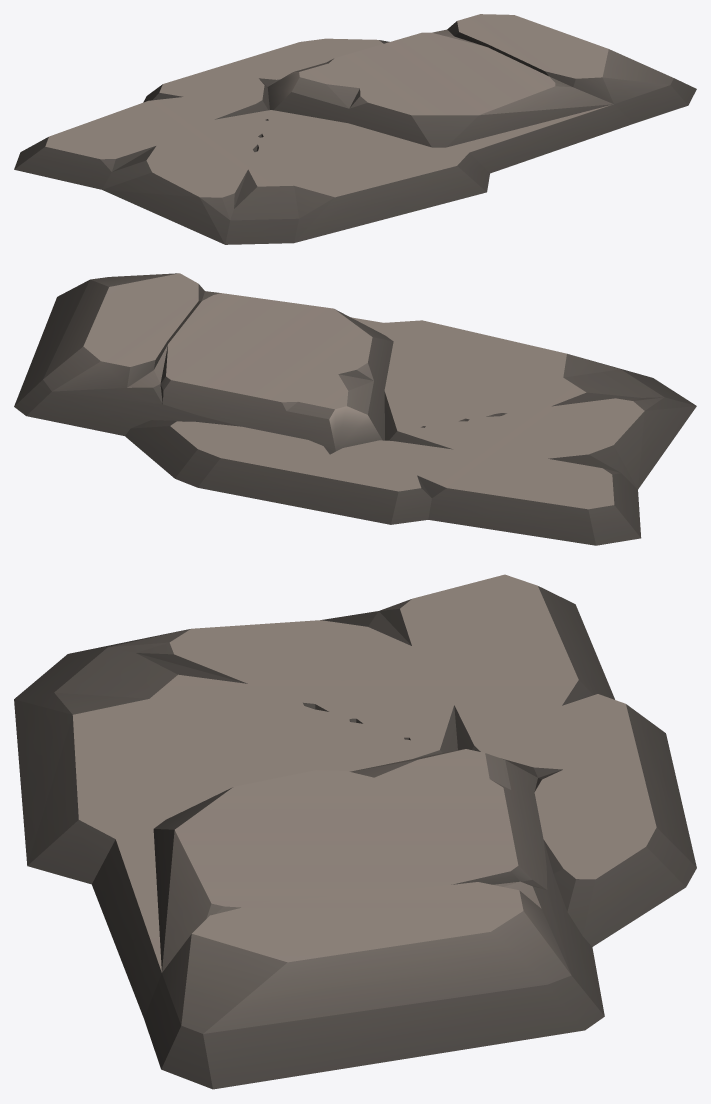
File: Rock_Slab_5A.fbx
3 renders of one model, top to bottom at view 1: azimuth 30°, elevation 25°; view 2: azimuth 150°, elevation 25°; view 3: azimuth 270°, elevation 25°, orthographic. The views are drawn at different scales.
Visible parts, largest first — view 1: Rock_Slab_5A; view 2: Rock_Slab_5A; view 3: Rock_Slab_5A.
Boxes of the visible parts, x1,y1,x2,y2 form: Rock_Slab_5A: [14, 14, 696, 244]; Rock_Slab_5A: [14, 273, 696, 545]; Rock_Slab_5A: [14, 574, 696, 1089].
Bounding box in the file's own units: 13.3 × 0.8671 × 7.61.
